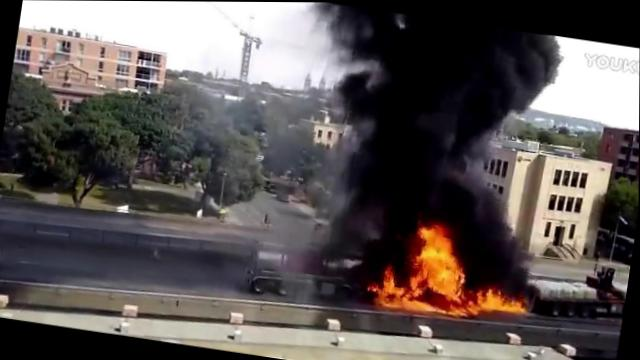fire: (411, 223, 465, 295), (473, 287, 527, 314), (371, 284, 411, 308), (459, 291, 481, 315), (444, 298, 468, 319), (408, 297, 436, 311), (381, 268, 395, 285)
